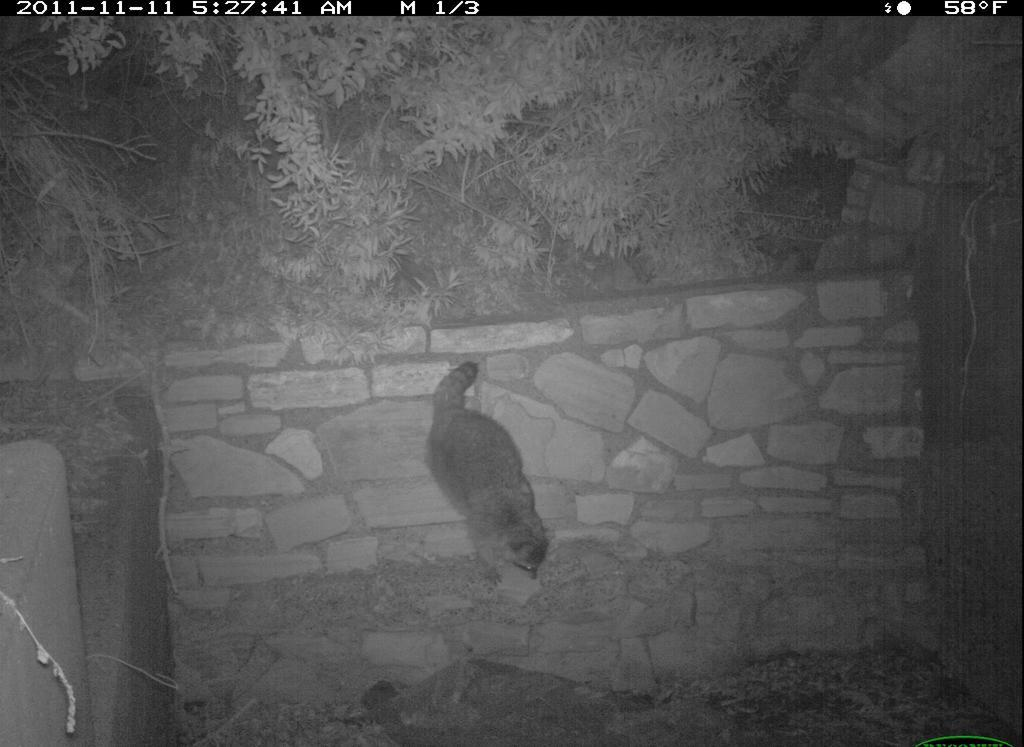raccoon: (406, 356, 582, 605)
